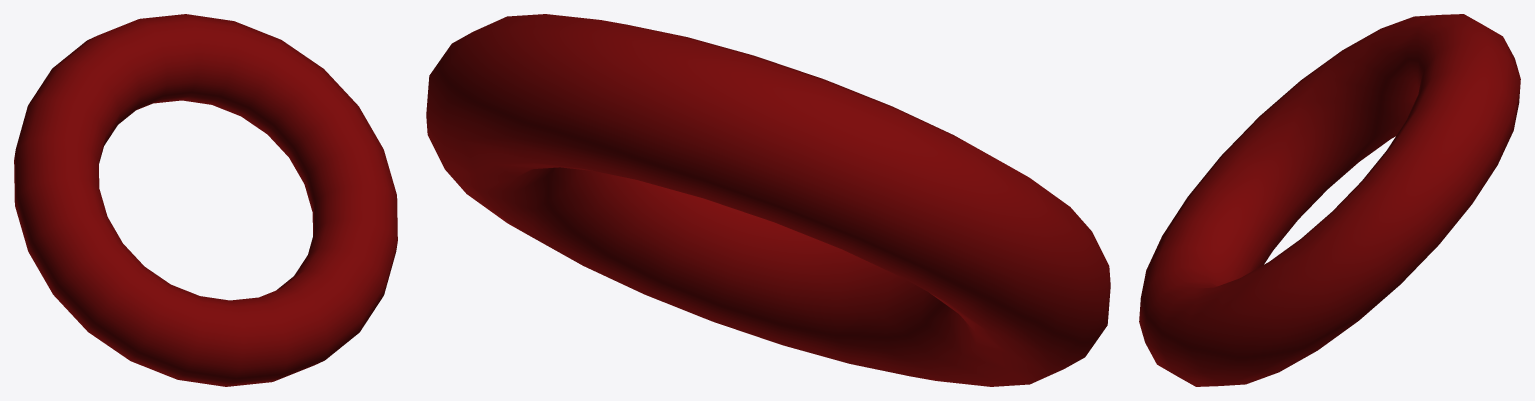
3 renders of one model, left to right at view 1: azimuth 30°, elevation 25°; view 2: azimuth 150°, elevation 25°; view 3: azimuth 270°, elevation 25°, orthographic. The views are drawn at different scales.
Visible parts, largest first — view 1: Torus001; view 2: Torus001; view 3: Torus001.
Part boxes in pixels (x1,y1,x2,y2): Torus001: [14, 14, 397, 386]; Torus001: [426, 14, 1110, 386]; Torus001: [1139, 14, 1520, 386].
Bounding box in the file's own units: 103 × 74.73 × 82.02.
